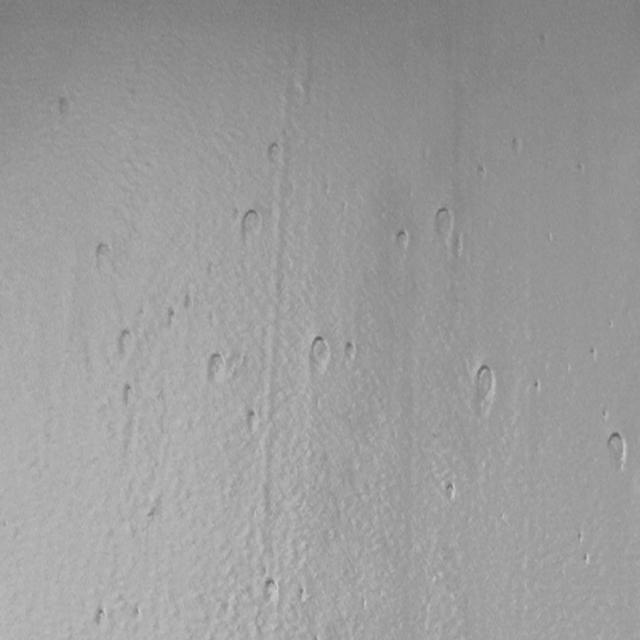pin holes: (471, 362, 498, 411), (602, 430, 630, 470), (432, 207, 457, 247), (306, 335, 330, 373), (240, 209, 264, 241), (205, 352, 228, 384), (115, 327, 135, 359), (92, 241, 115, 267), (264, 142, 285, 168), (91, 604, 111, 630), (54, 95, 75, 119), (391, 228, 410, 254), (242, 409, 260, 436), (260, 578, 278, 605), (120, 382, 136, 408), (442, 479, 458, 504), (508, 135, 526, 157), (535, 30, 551, 53), (344, 341, 358, 366), (475, 163, 489, 183), (295, 586, 309, 606), (183, 294, 196, 314), (574, 160, 588, 178), (165, 307, 178, 326), (531, 379, 543, 396), (587, 345, 599, 362), (598, 406, 609, 424), (581, 552, 593, 568), (606, 316, 618, 331), (576, 532, 586, 546), (134, 604, 140, 622)
